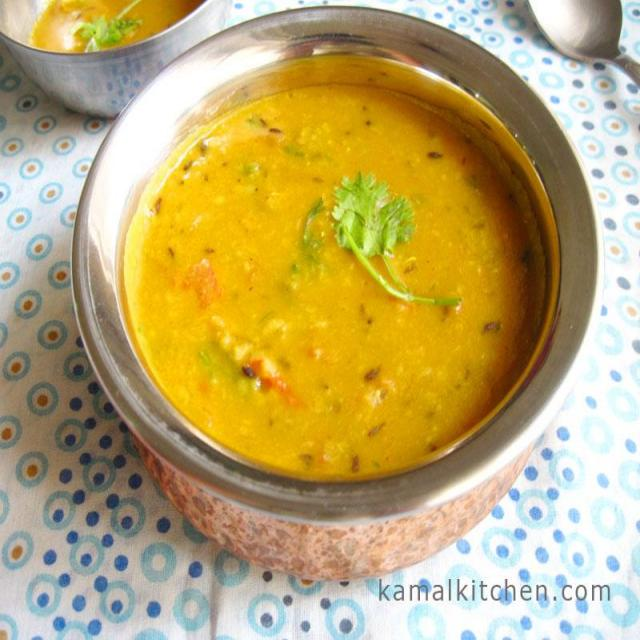dal: (123, 82, 542, 485), (27, 0, 201, 47)
